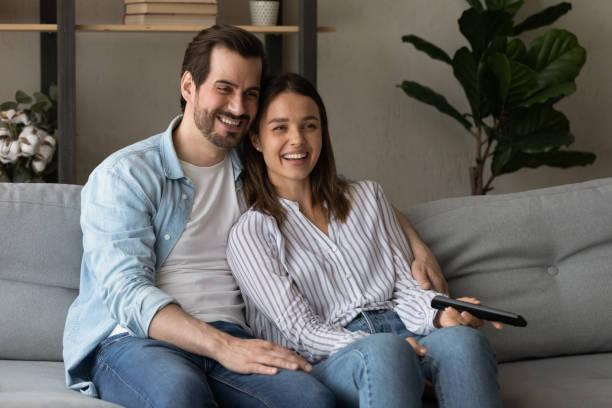long sleeve shirt: (61, 117, 259, 399), (223, 178, 456, 362)
short sleeve shirt: (107, 156, 249, 327)
trousers: (83, 320, 335, 408), (299, 309, 505, 408)
